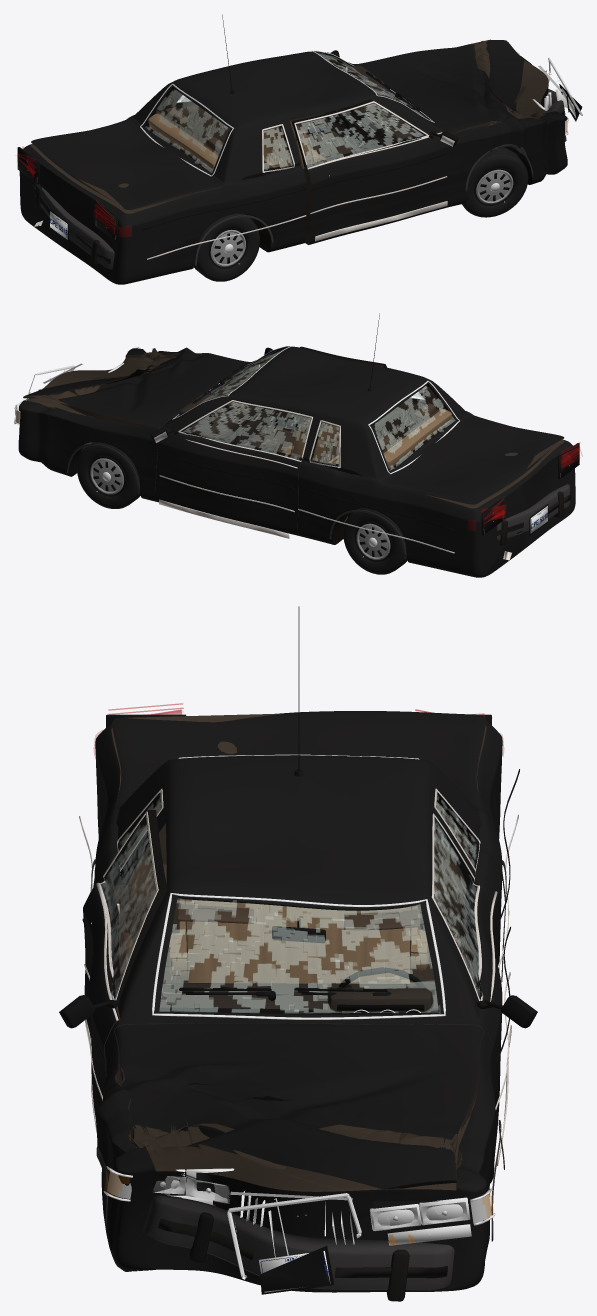
The model's file is coupe84_front_corner_R_d1_lod1.glb.
3 renders of one model, top to bottom at view 1: azimuth 30°, elevation 25°; view 2: azimuth 150°, elevation 25°; view 3: azimuth 270°, elevation 25°, orthographic. The views are drawn at different scales.
Parts seen in each view (by area): view 1: Body, Door_FR, Hood, Trunk, Interior, Glass, Glass_FR, Wheel_FR_mesh, Wheel_RR_mesh, Ends, Trim_FR, Trim (+3 smaller); view 2: Body, Door_FL, Trunk, Hood, Interior, Glass, Wheel_FL_mesh, Wheel_RL_mesh, Glass_FL, Trim_FL, Ends, Trim (+3 smaller); view 3: Body, Hood, Interior, Glass, Trunk, Bumper_F, Ends, Door_FR, Door_FL, Trim, Glass_FR, Trim_FL (+3 smaller).
Boxes of the visible parts, <box> form: Body: <box>19,51,567,284</box>; Door_FR: <box>291,99,451,244</box>; Hood: <box>356,39,525,133</box>; Trunk: <box>31,118,222,209</box>; Interior: <box>148,65,421,170</box>; Glass: <box>140,50,434,176</box>; Glass_FR: <box>293,101,425,170</box>; Wheel_FR_mesh: <box>462,147,528,217</box>; Wheel_RR_mesh: <box>194,213,259,281</box>; Ends: <box>17,53,582,241</box>; Trim_FR: <box>294,101,457,241</box>; Trim: <box>142,14,533,265</box>; Body: <box>18,346,575,577</box>; Door_FL: <box>155,399,313,535</box>; Trunk: <box>380,414,564,504</box>; Hood: <box>23,351,248,430</box>; Interior: <box>179,369,451,468</box>; Glass: <box>172,346,459,473</box>; Wheel_FL_mesh: <box>77,442,140,508</box>; Wheel_RL_mesh: <box>343,508,407,574</box>; Glass_FL: <box>182,400,313,462</box>; Trim_FL: <box>150,400,313,538</box>; Ends: <box>14,347,579,535</box>; Trim: <box>67,313,454,558</box>; Body: <box>95,722,502,1292</box>; Hood: <box>114,1023,483,1189</box>; Interior: <box>160,898,438,1012</box>; Glass: <box>120,754,476,1019</box>; Trunk: <box>112,711,485,809</box>; Bumper_F: <box>143,1195,454,1301</box>; Ends: <box>103,714,495,1294</box>; Door_FR: <box>83,810,167,1118</box>; Door_FL: <box>430,812,502,1152</box>; Trim: <box>79,606,519,1241</box>; Glass_FR: <box>99,824,159,995</box>; Trim_FL: <box>431,813,537,1165</box>.
Size of the model in its own units: 5.16 by 2.17 by 2.13.
34 materials, 5 textured.
